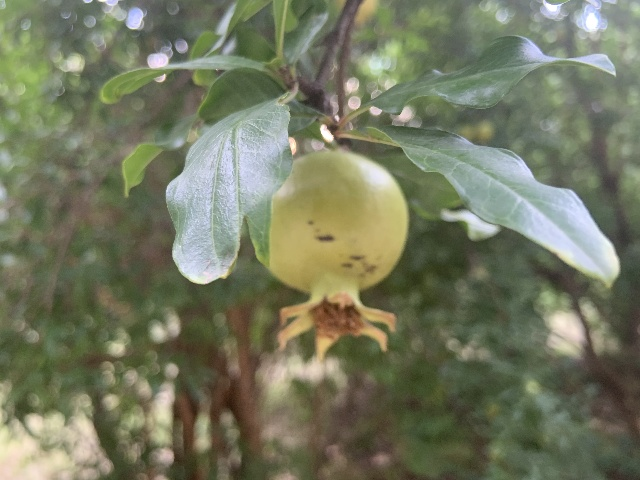mid-growth: (265, 150, 408, 363)
